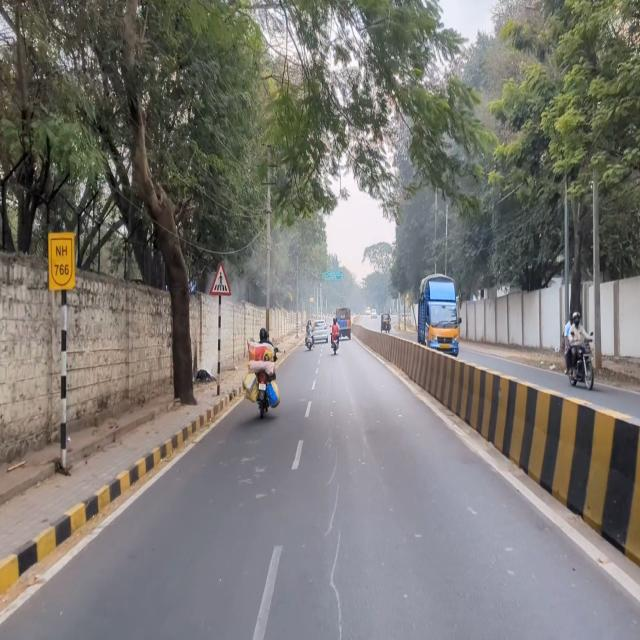bien_cam: (210, 260, 232, 298)
